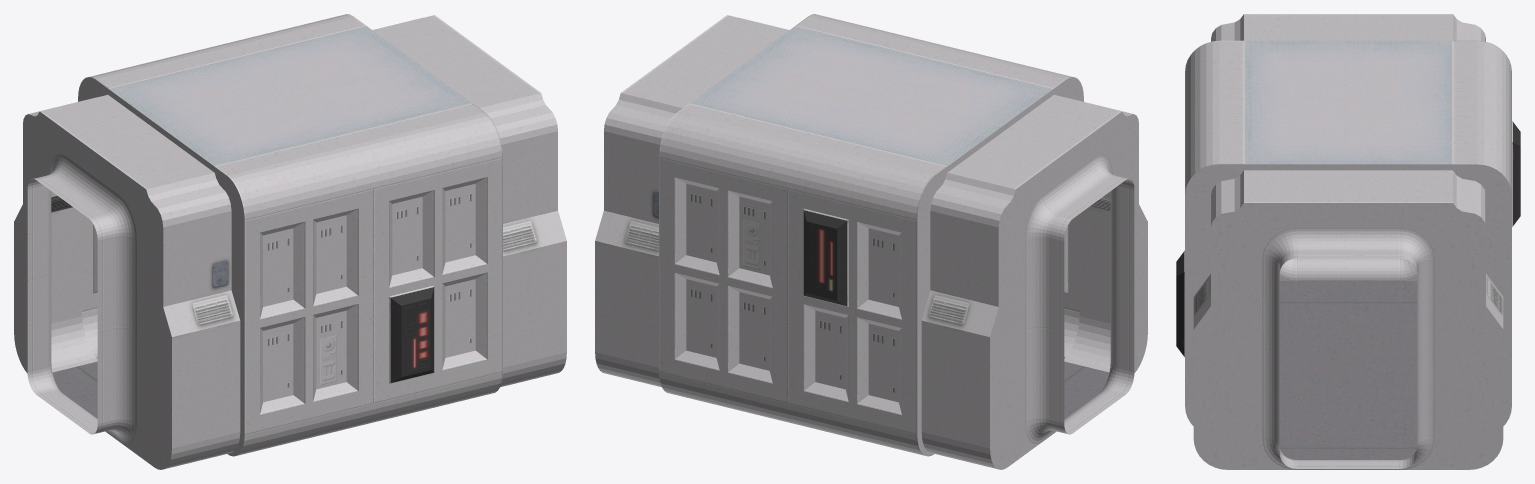
File: thm_spc_corvette_dungeon_r5_hall5_mesh_r5.fbx
The picture shows the model from 3 angles, left to right: view 1: azimuth 30°, elevation 25°; view 2: azimuth 150°, elevation 25°; view 3: azimuth 270°, elevation 25°; orthographic projection.
Parts seen in each view (by area): view 1: mesh_node; view 2: mesh_node; view 3: mesh_node.
Part boxes in pixels (box(x1,y1,x2,y2)): mesh_node: box(14, 14, 566, 469); mesh_node: box(595, 14, 1147, 469); mesh_node: box(1176, 14, 1520, 469).
Size of the model in its own units: 6 by 3.5 by 4.
